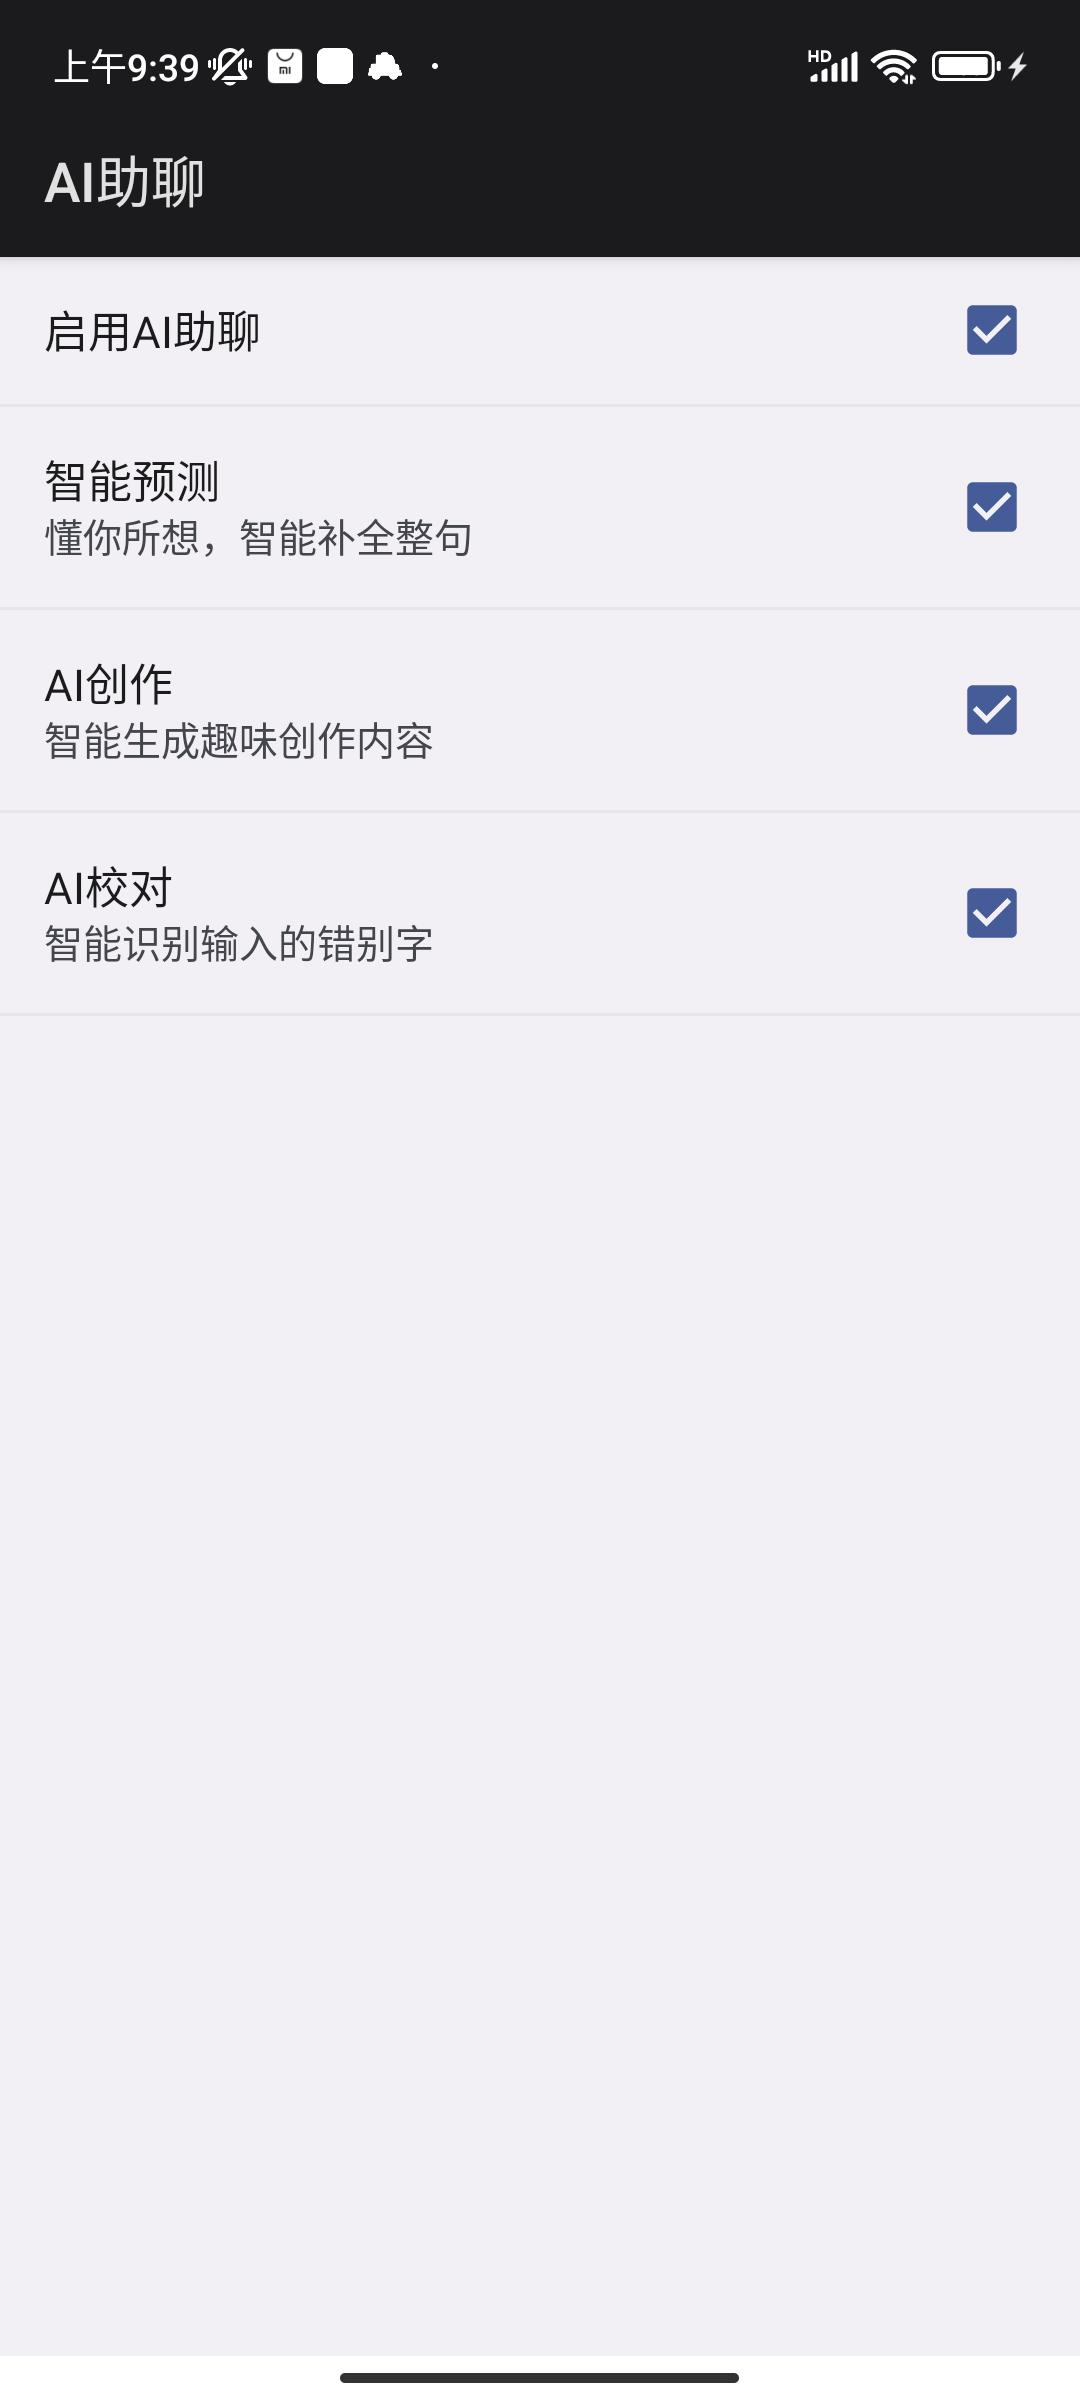ui_group: (5, 813, 1080, 1022), (5, 406, 1078, 612), (2, 612, 1080, 814)
